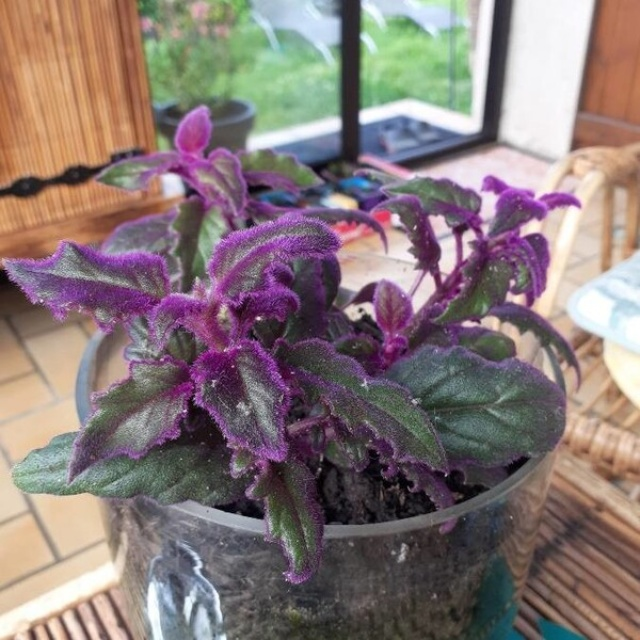obstacle: (28, 122, 592, 630)
